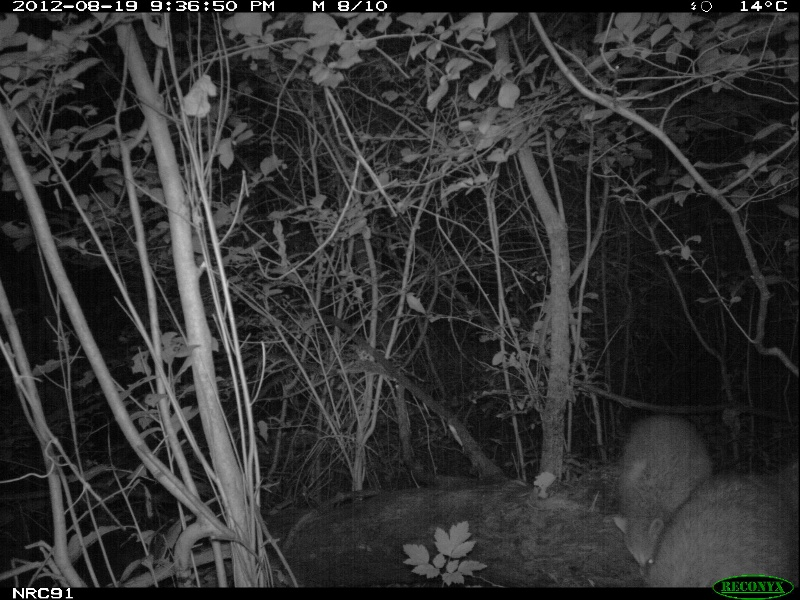raccoon: (614, 410, 715, 576)
